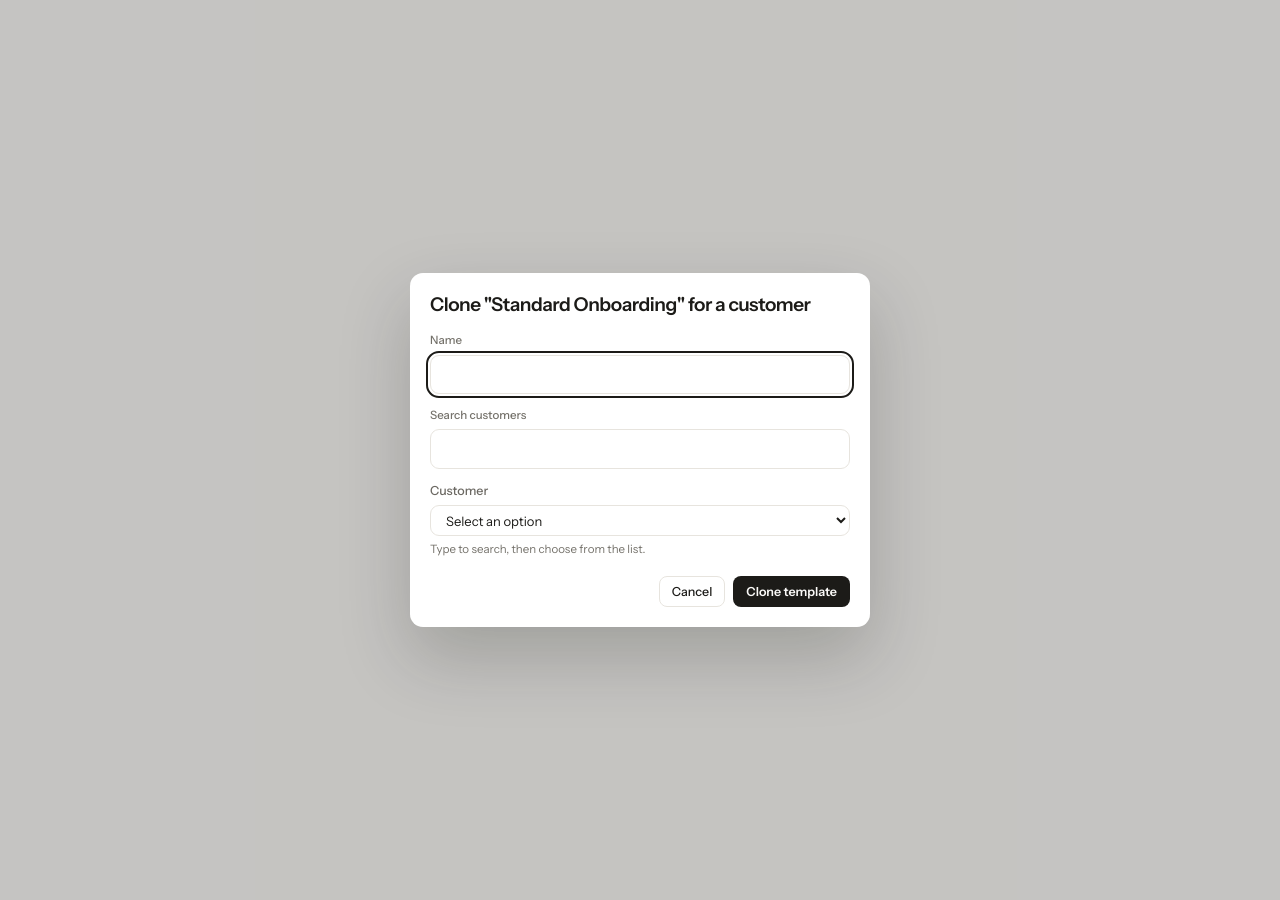
Scenario: CloneTemplateDialog › requires both a name and a customer before submitting
Step 1. Click the button "Clone template" → (792, 592), box [733,576,850,607]
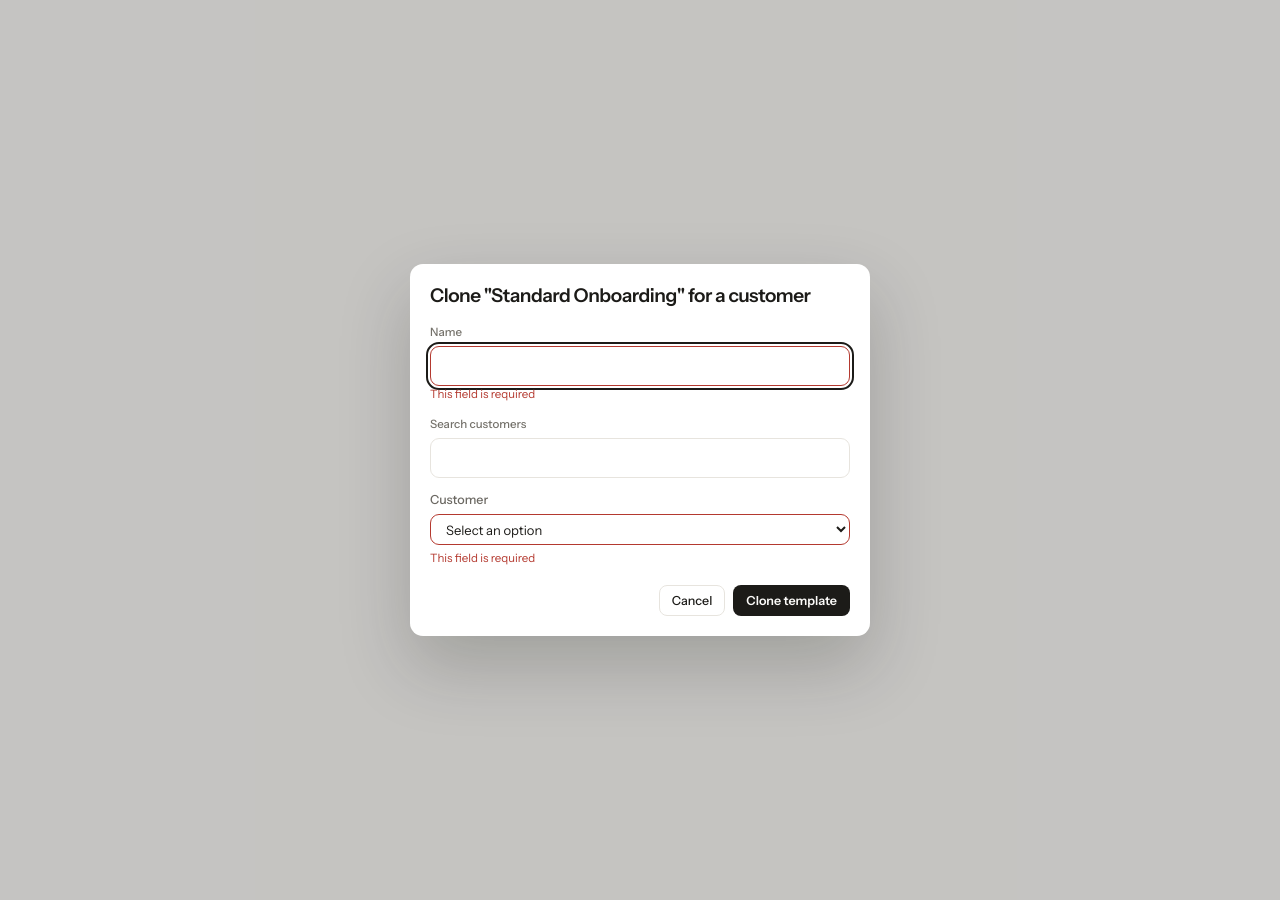
Expected: the text "This field is required" is shown 2 times, [430,386,535,400]; [430,551,535,565]
